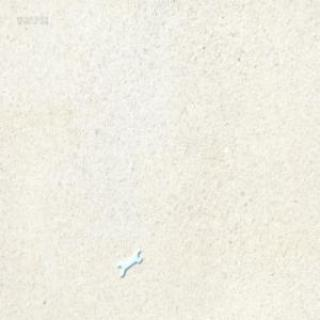Wrenchtrack_idkeyframe: (117, 246, 142, 276)
